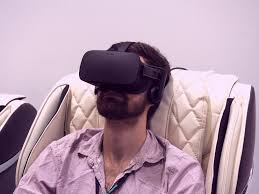oculus: (78, 50, 158, 96)
